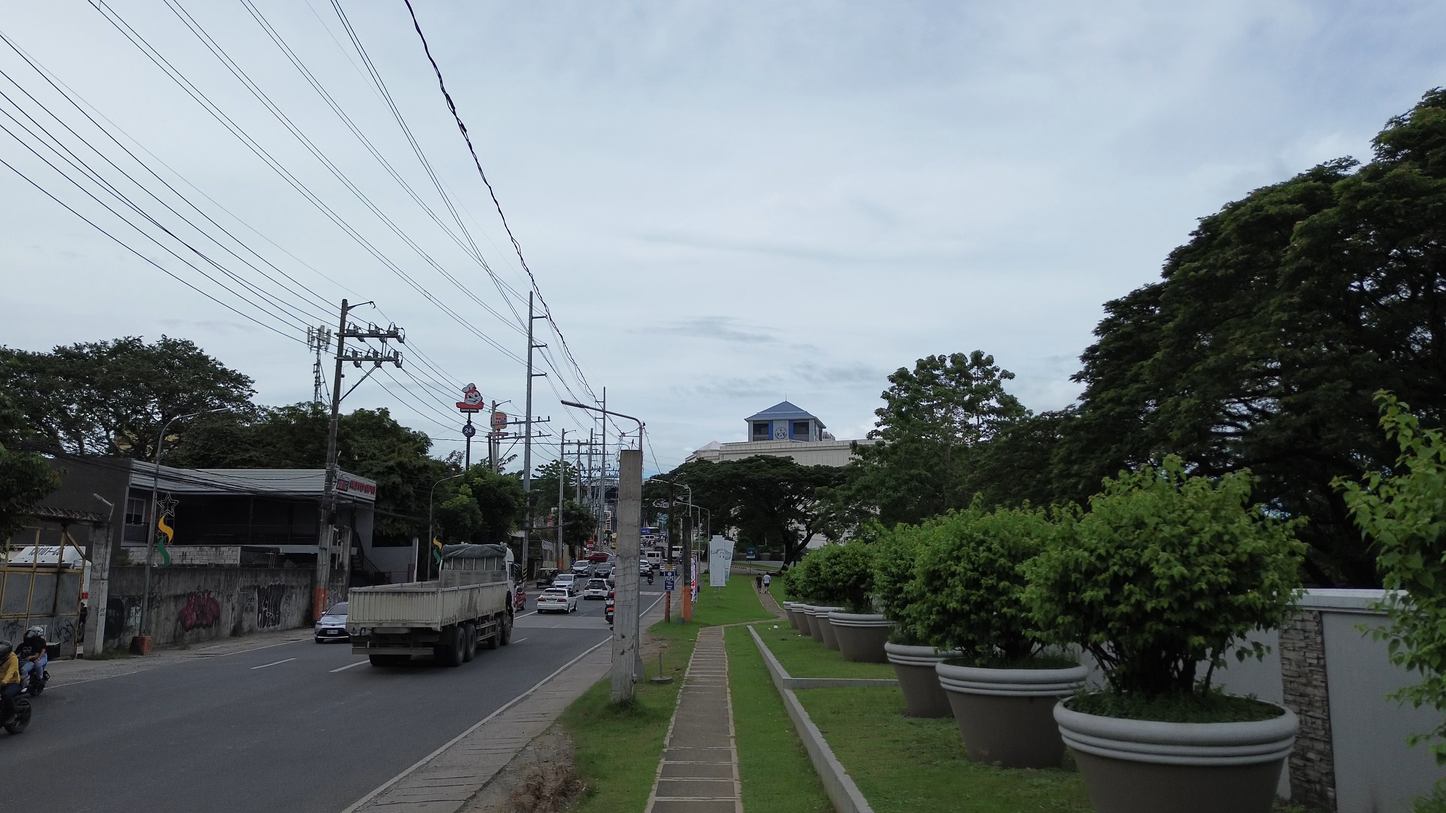car: (537, 588, 578, 613), (582, 578, 609, 599)
motorcycle: (0, 696, 31, 734), (21, 670, 50, 697), (604, 598, 615, 624)
truck: (347, 546, 516, 666)
vehicle: (314, 602, 349, 644), (550, 573, 581, 594), (641, 548, 664, 567), (570, 559, 594, 577), (594, 563, 613, 578), (587, 551, 609, 562), (639, 560, 653, 575)
